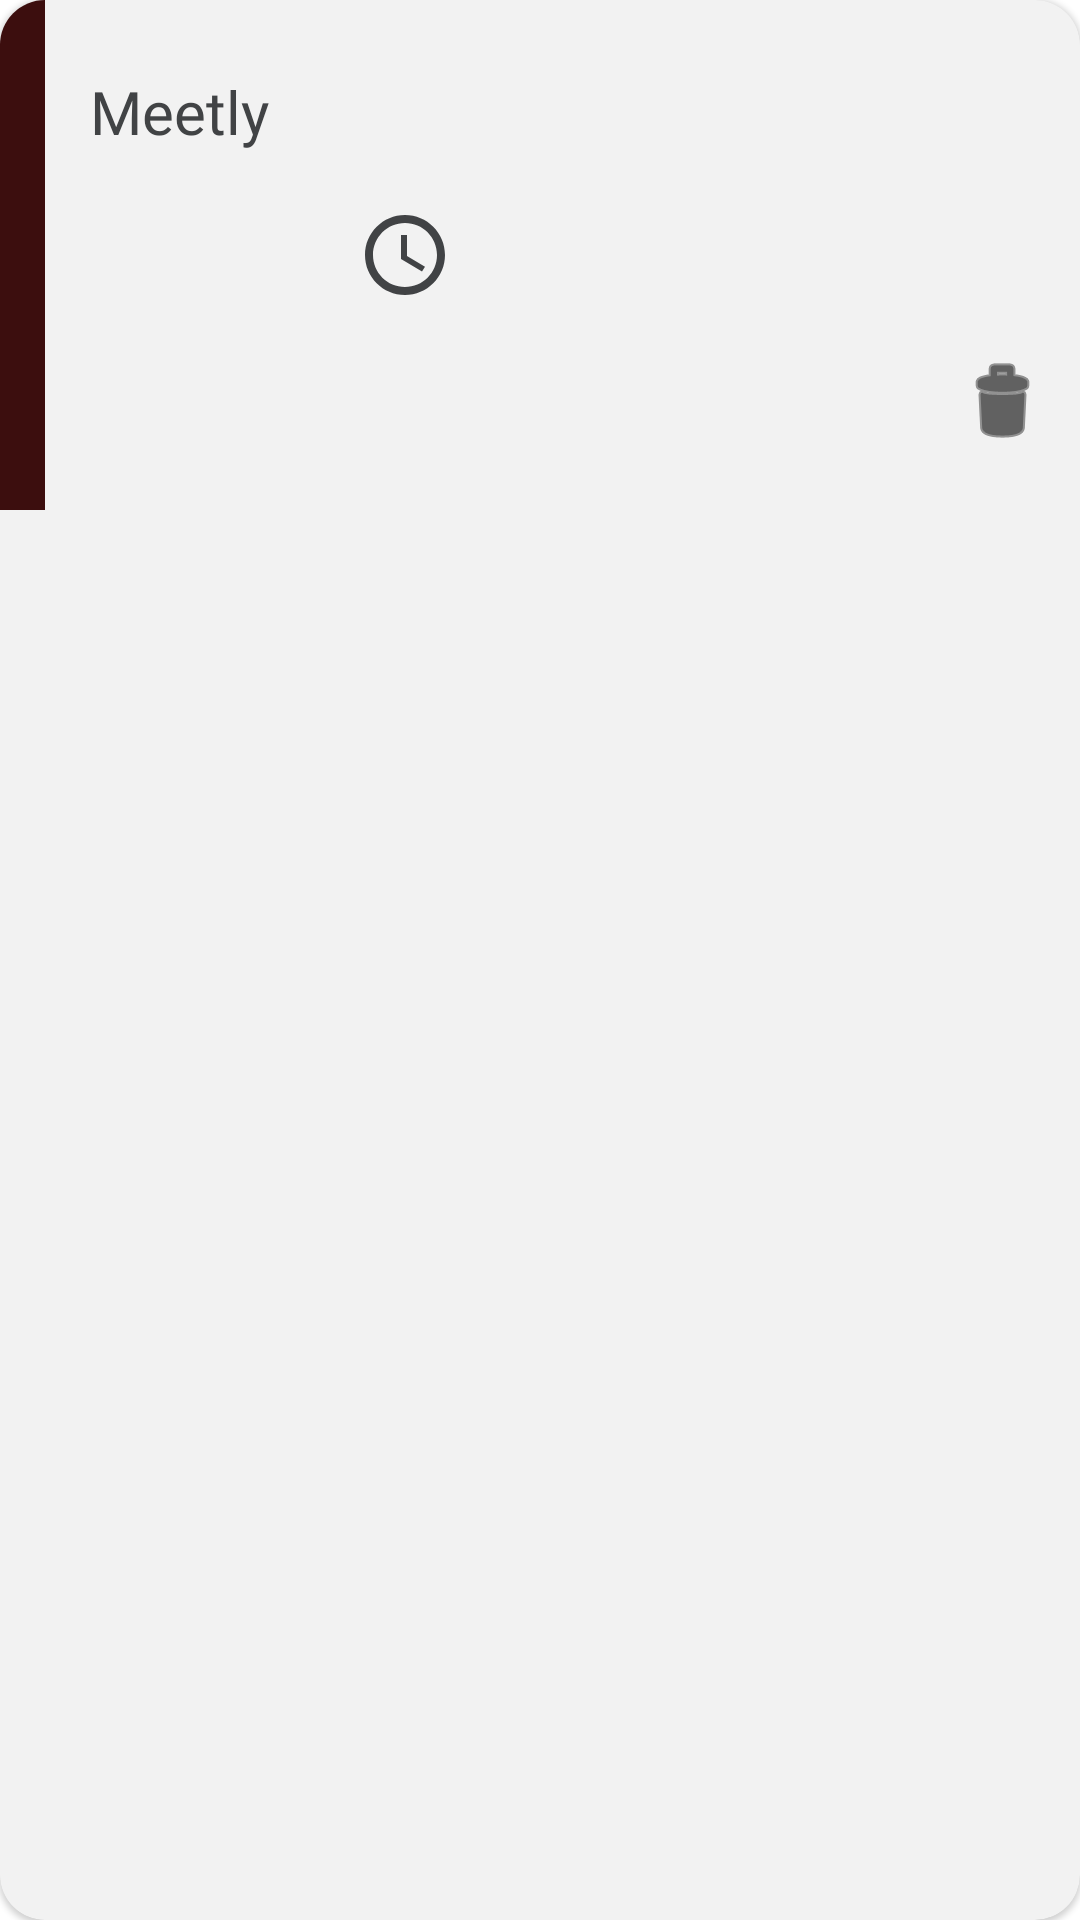

Point at icon controls on the screen. Image size 1080px×1920px, points as [x,y].
delete meeting icon: [1002,400]
Select Time: [405,255]
